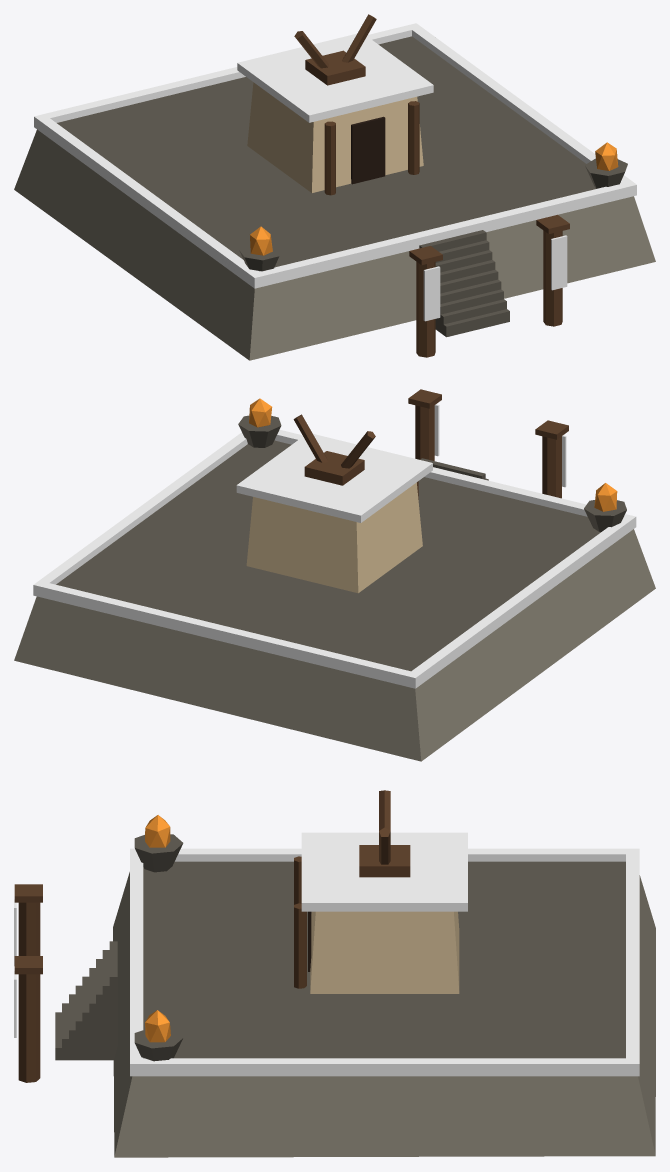
File: temple_stone.glb
3 renders of one model, top to bottom at view 1: azimuth 30°, elevation 25°; view 2: azimuth 150°, elevation 25°; view 3: azimuth 270°, elevation 25°, orthographic. The views are drawn at different scales.
Parts seen in each view (by area): view 1: part.001, part, part.016, part.015, part.002, part.003, part.005, part.004, part.017, part.020, part.027, part.030 (+18 smaller); view 2: part.001, part, part.015, part.016, part.004, part.003, part.005, part.002, part.020, part.027, part.030, part.025 (+3 smaller); view 3: part.001, part, part.015, part.016, part.005, part.003, part.004, part.002, part.030, part.020, part.027, part.023 (+12 smaller).
Part boxes in pixels (left/top/right/bottom): part.001: left=57, top=36, right=595, bottom=267; part: left=14, top=129, right=655, bottom=360; part.016: left=237, top=33, right=433, bottom=122; part.015: left=247, top=82, right=423, bottom=192; part.002: left=249, top=180, right=636, bottom=288; part.003: left=34, top=115, right=264, bottom=285; part.005: left=407, top=23, right=633, bottom=186; part.004: left=34, top=23, right=421, bottom=122; part.017: left=351, top=116, right=385, bottom=184; part.020: left=305, top=50, right=365, bottom=85; part.027: left=416, top=262, right=435, bottom=357; part.030: left=543, top=230, right=562, bottom=326; part.001: left=56, top=440, right=600, bottom=671; part: left=14, top=529, right=655, bottom=761; part.015: left=246, top=482, right=422, bottom=593; part.016: left=236, top=434, right=432, bottom=522; part.004: left=33, top=580, right=421, bottom=687; part.003: left=405, top=515, right=636, bottom=688; part.005: left=37, top=432, right=247, bottom=587; part.002: left=274, top=429, right=634, bottom=520; part.020: left=304, top=451, right=364, bottom=485; part.027: left=542, top=436, right=561, bottom=498; part.030: left=415, top=405, right=434, bottom=460; part.025: left=238, top=415, right=281, bottom=447; part.001: left=143, top=861, right=625, bottom=1058; part: left=113, top=872, right=655, bottom=1157; part.015: left=310, top=911, right=459, bottom=993; part.016: left=301, top=832, right=467, bottom=911; part.005: left=130, top=1058, right=639, bottom=1076; part.003: left=130, top=848, right=639, bottom=861; part.004: left=626, top=849, right=639, bottom=1076; part.002: left=130, top=848, right=143, bottom=1076; part.030: left=18, top=974, right=40, bottom=1082; part.020: left=359, top=845, right=410, bottom=877; part.027: left=18, top=902, right=40, bottom=955; part.023: left=134, top=834, right=183, bottom=872.
Size of the model in its own units: 8.02 by 3.82 by 9.47.
